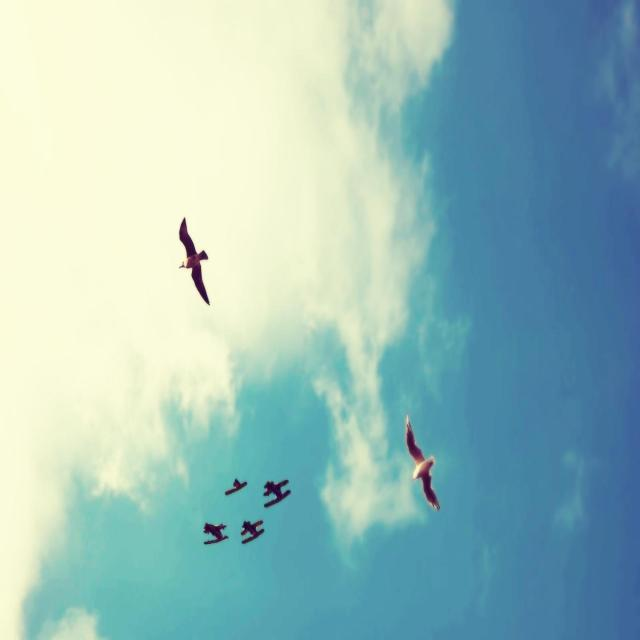airplane: (263, 478, 291, 503), (240, 519, 264, 544), (203, 522, 228, 544), (225, 477, 247, 495)
